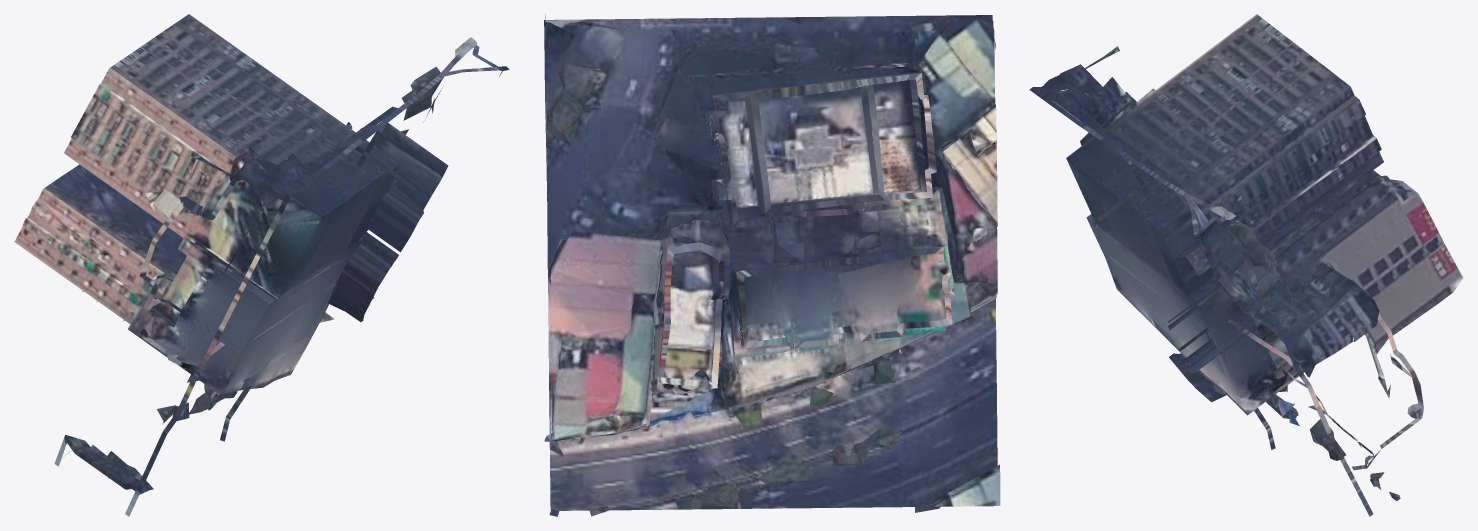
3 views of the same model, side by side, from view 1: azimuth 30°, elevation 25°; view 2: azimuth 150°, elevation 25°; view 3: azimuth 270°, elevation 25° (orthographic). The views are drawn at different scales.
Bounding box in the file's own units: 86.76 × 79.05 × 81.54.
1 material, 1 textured.
